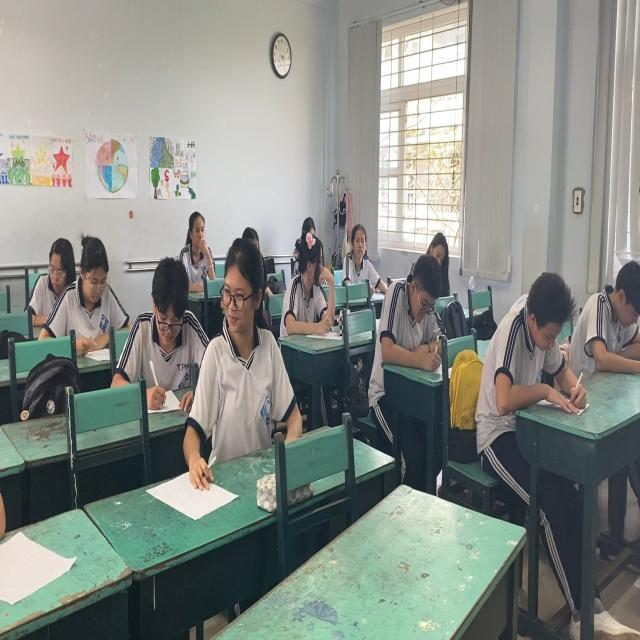cheating: (198, 247, 285, 433), (284, 236, 346, 330)
not_cheating: (495, 274, 581, 422), (133, 236, 198, 395), (374, 246, 446, 374), (67, 229, 128, 343), (338, 216, 382, 280), (184, 195, 217, 278), (41, 233, 74, 298)
